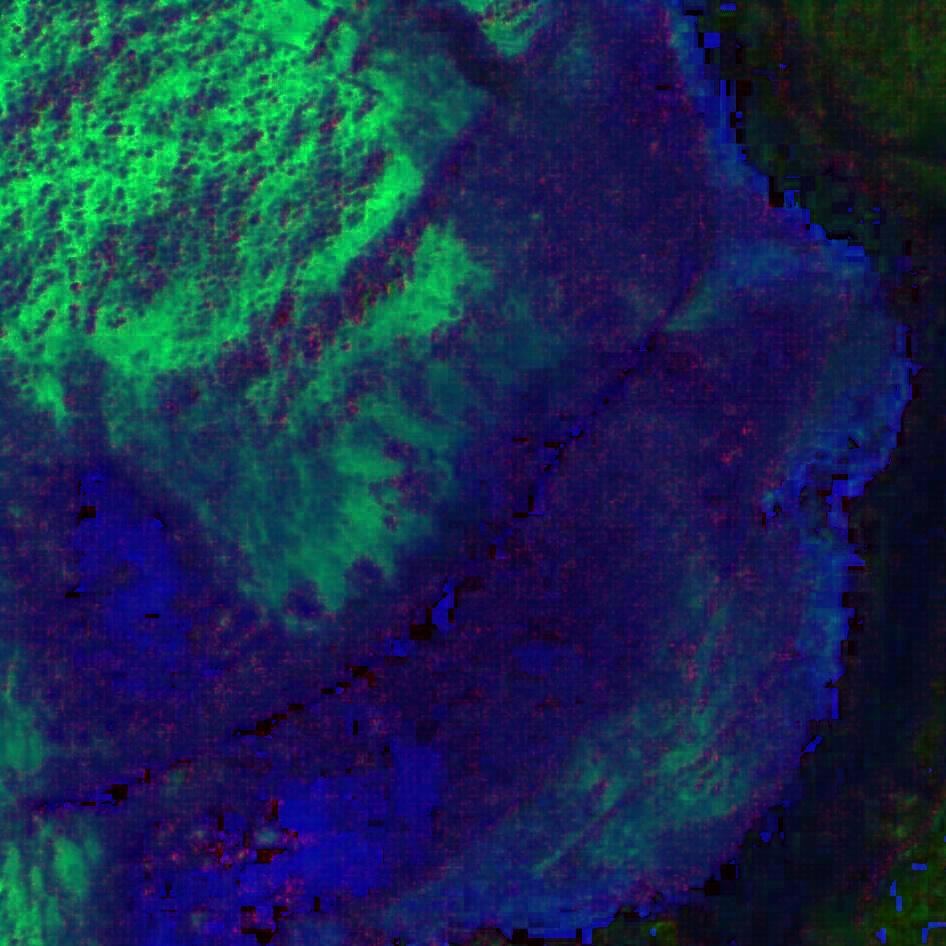rip_current: (62, 142, 634, 641)
